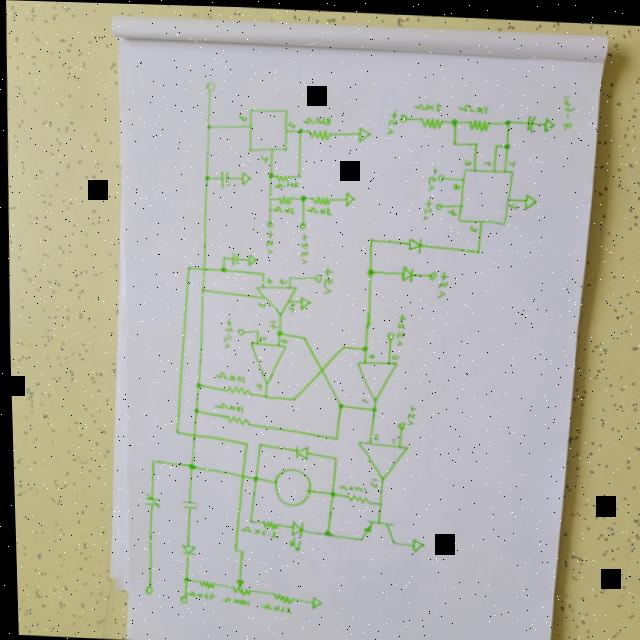capacitor: (217, 166, 228, 186), (524, 109, 535, 127), (228, 248, 238, 263)
crossover: (315, 361, 324, 371), (186, 429, 195, 437), (196, 262, 205, 270), (235, 470, 243, 479)
diode: (283, 515, 303, 550), (176, 538, 193, 555), (406, 232, 422, 250), (398, 260, 412, 279), (290, 443, 306, 458)
ground: (355, 122, 372, 140), (406, 532, 422, 551), (522, 188, 537, 206), (238, 166, 251, 183), (543, 111, 555, 128), (297, 292, 309, 307), (344, 187, 354, 204), (307, 591, 319, 605), (245, 251, 256, 263)
inductor: (269, 465, 309, 504)
junction: (177, 572, 187, 582), (447, 113, 458, 122), (364, 263, 373, 273), (501, 137, 510, 147), (319, 526, 328, 535), (248, 472, 257, 480), (471, 135, 479, 144), (297, 218, 306, 226), (184, 460, 192, 468), (201, 171, 209, 179), (503, 114, 511, 122), (203, 120, 211, 128), (325, 486, 333, 494), (334, 398, 342, 406), (191, 378, 199, 386), (329, 451, 337, 459), (189, 404, 197, 412), (358, 341, 366, 349), (367, 402, 375, 410), (273, 325, 281, 333), (329, 430, 336, 438), (472, 244, 480, 251), (336, 339, 344, 346), (228, 544, 236, 551), (287, 392, 294, 400), (197, 283, 204, 291), (243, 514, 250, 522), (254, 438, 261, 445), (147, 455, 154, 462), (170, 426, 177, 433), (266, 168, 272, 176), (373, 497, 379, 505), (234, 546, 242, 552), (299, 190, 305, 197), (450, 136, 457, 142), (259, 390, 266, 396), (294, 170, 301, 176), (219, 264, 226, 270), (366, 233, 372, 239), (184, 262, 190, 268), (240, 438, 246, 444), (299, 331, 305, 337), (296, 125, 302, 131), (251, 327, 257, 331), (219, 253, 225, 257), (259, 269, 263, 273), (286, 273, 290, 277), (493, 139, 497, 143)
resistor: (225, 574, 248, 593), (303, 124, 332, 138), (416, 111, 443, 126), (219, 381, 249, 394), (339, 488, 366, 501), (267, 587, 290, 602), (466, 113, 489, 127), (221, 411, 247, 423), (308, 192, 331, 203), (256, 517, 276, 529), (193, 576, 213, 587), (276, 192, 292, 202), (274, 171, 291, 179)
switch: (139, 490, 159, 508), (176, 497, 196, 509)
terminal: (270, 202, 293, 211), (204, 78, 215, 90), (140, 582, 151, 594), (173, 591, 185, 602), (393, 416, 403, 427), (233, 324, 244, 334), (398, 109, 408, 119), (383, 328, 392, 337), (432, 198, 441, 207), (312, 271, 320, 281), (427, 267, 435, 277), (436, 170, 442, 179), (265, 218, 272, 224)
text: (559, 88, 575, 126), (391, 309, 406, 344), (237, 522, 275, 534), (256, 599, 288, 612), (412, 96, 441, 110), (457, 98, 488, 111), (210, 368, 243, 380), (434, 267, 448, 295), (210, 397, 240, 410), (181, 587, 213, 599), (214, 592, 246, 604), (300, 111, 331, 123), (335, 479, 366, 491), (383, 105, 397, 131), (297, 229, 308, 262), (400, 399, 414, 424), (220, 315, 231, 346), (320, 263, 332, 291), (425, 162, 437, 188), (304, 201, 330, 212), (419, 194, 431, 216), (263, 227, 272, 251), (272, 178, 297, 186), (479, 154, 491, 164), (365, 473, 375, 484), (284, 117, 294, 128), (285, 299, 294, 311), (265, 316, 275, 326), (367, 428, 377, 438), (235, 110, 246, 119), (506, 153, 515, 163), (506, 197, 517, 205), (363, 349, 374, 357), (467, 220, 476, 229), (450, 178, 460, 186), (445, 204, 455, 212), (259, 151, 267, 160), (357, 393, 366, 401), (462, 154, 471, 162), (387, 432, 395, 441), (252, 378, 260, 387), (277, 275, 287, 282), (388, 349, 398, 356), (255, 332, 265, 338), (277, 334, 287, 340), (263, 274, 271, 281), (255, 299, 263, 305)
transistor: (355, 515, 393, 543)
